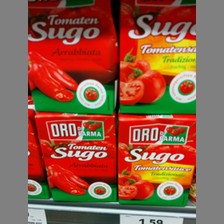tomato_sauce: (28, 1, 117, 115), (117, 1, 195, 116), (34, 111, 118, 204), (117, 112, 195, 207)
